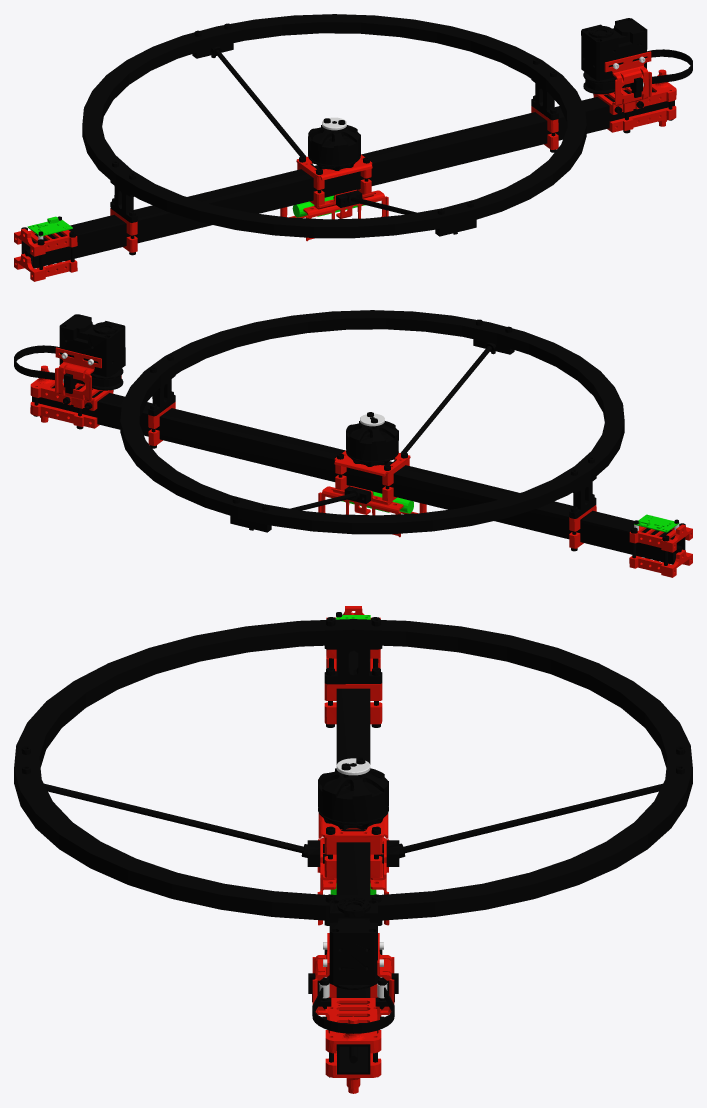
3 renders of one model, top to bottom at view 1: azimuth 30°, elevation 25°; view 2: azimuth 150°, elevation 25°; view 3: azimuth 270°, elevation 25°, orthographic. The views are drawn at different scales.
Parts seen in each view (by area): view 1: link1_black_part, link1_red_part, link1_green_part; view 2: link1_black_part, link1_red_part, link1_green_part; view 3: link1_black_part, link1_red_part, link1_grey_part.
Boxes of the visible parts, <box> form: link1_black_part: <box>21,14,692,269</box>; link1_red_part: <box>14,51,676,281</box>; link1_green_part: <box>27,195,365,236</box>; link1_black_part: <box>14,310,685,565</box>; link1_red_part: <box>30,347,692,577</box>; link1_green_part: <box>331,491,679,532</box>; link1_black_part: <box>14,612,692,1077</box>; link1_red_part: <box>312,606,394,1093</box>; link1_grey_part: <box>319,617,387,998</box>.
Bounding box in the file's own units: 0.6083 × 0.3997 × 0.1098.
